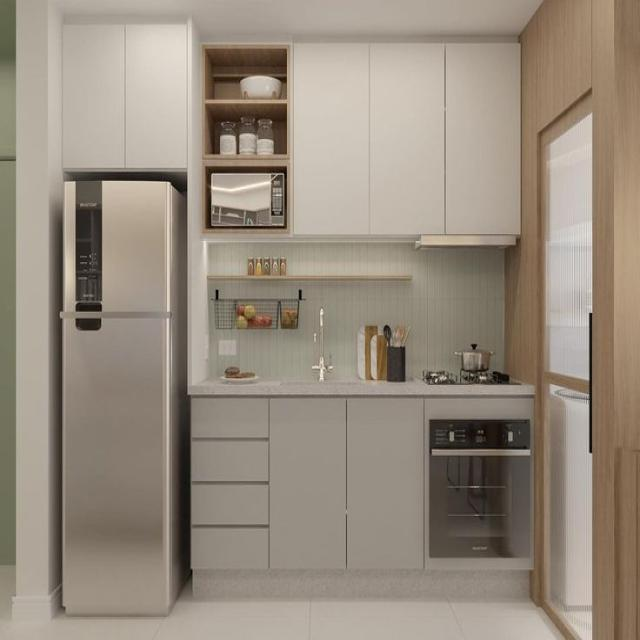obstacle: (59, 177, 190, 617), (294, 44, 524, 232), (195, 391, 422, 572), (61, 19, 189, 172), (200, 41, 292, 236)
